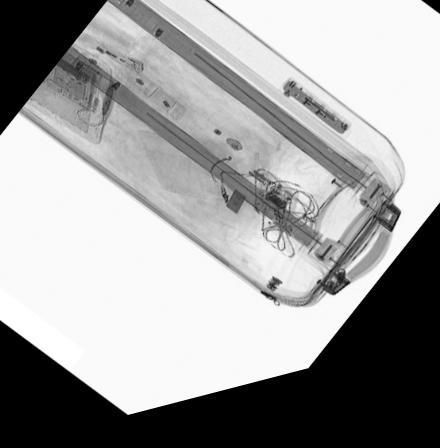Lighter: (77, 36, 144, 80)
